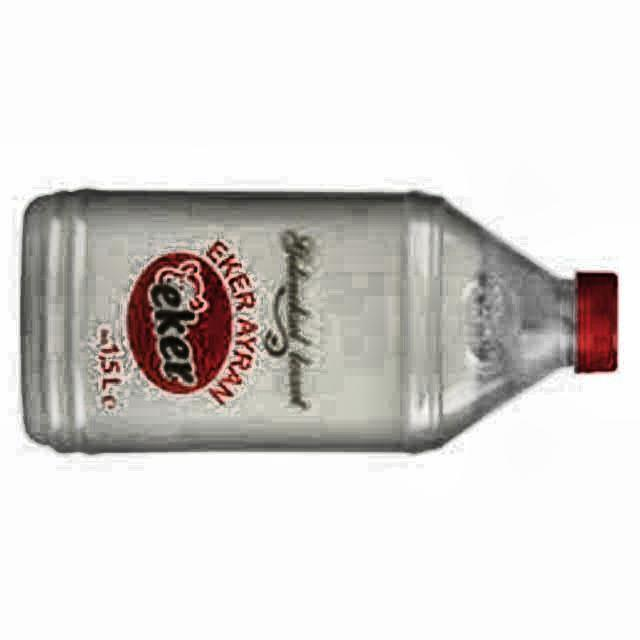plastic: (21, 192, 617, 450)
